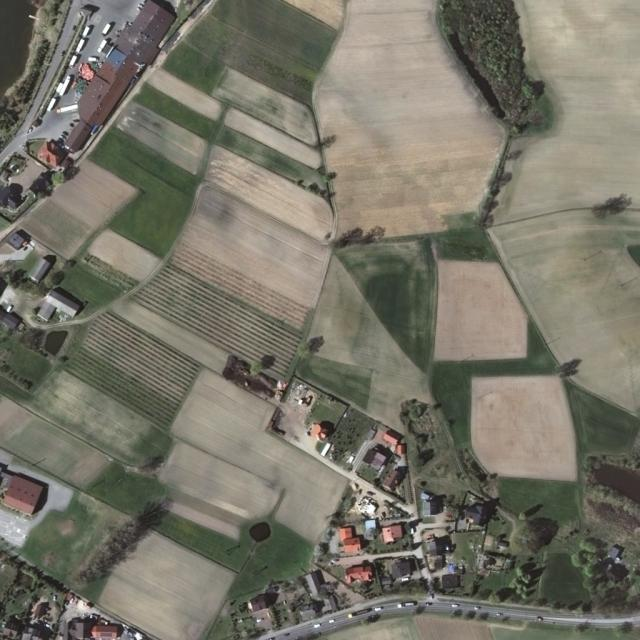agricultural_land: (139, 62, 351, 597), (109, 491, 176, 558), (141, 452, 169, 478)
greenland: (0, 452, 126, 639)
metalled_road: (253, 598, 386, 640)
